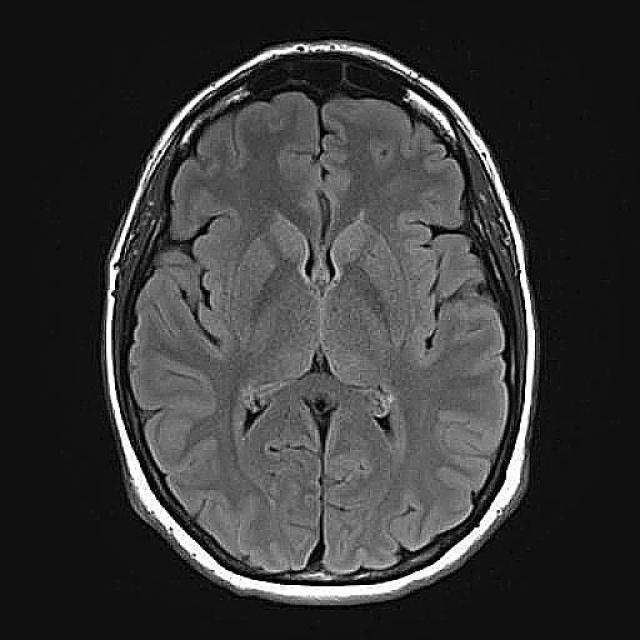notumor: (104, 40, 536, 604)
